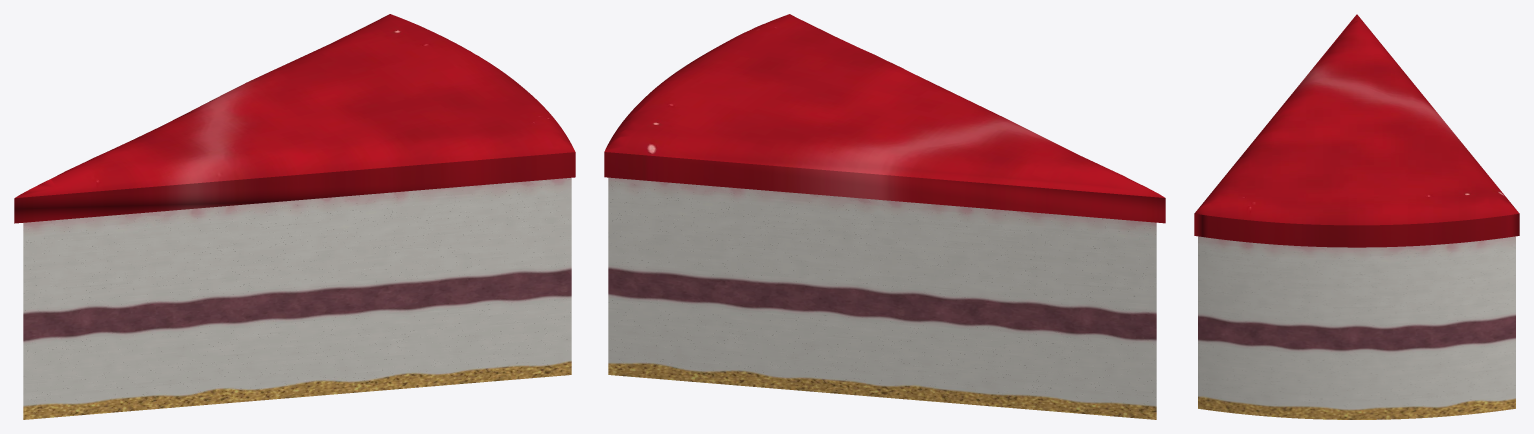
File: cheesecake.glb
The picture shows the model from 3 angles, left to right: view 1: azimuth 30°, elevation 25°; view 2: azimuth 150°, elevation 25°; view 3: azimuth 270°, elevation 25°; orthographic projection. The views are drawn at different scales.
Visible parts, largest first — view 1: cake; view 2: cake; view 3: cake.
Part boxes in pixels (bbox=[...]): cake: bbox=[14, 14, 575, 419]; cake: bbox=[604, 14, 1165, 419]; cake: bbox=[1194, 14, 1519, 419].
Size of the model in its own units: 1.02 by 0.4711 by 0.6664.
2 materials, 2 textured.
